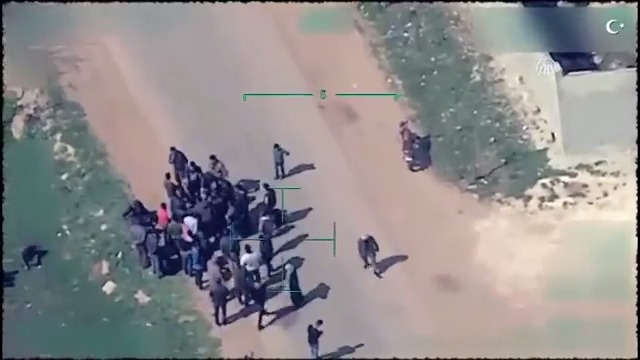arac: (394, 114, 424, 172)
insan: (350, 223, 391, 278), (209, 269, 232, 326), (143, 225, 165, 280), (304, 317, 330, 360), (283, 260, 302, 309), (270, 140, 290, 176)
